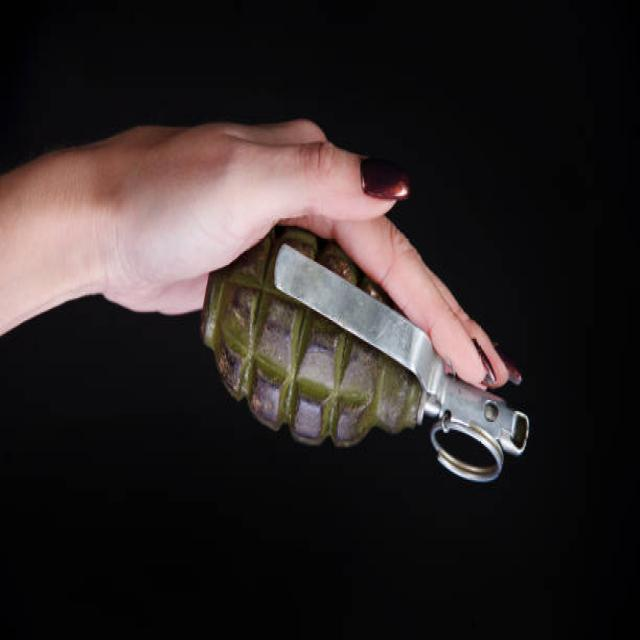grenade: (192, 244, 536, 495)
